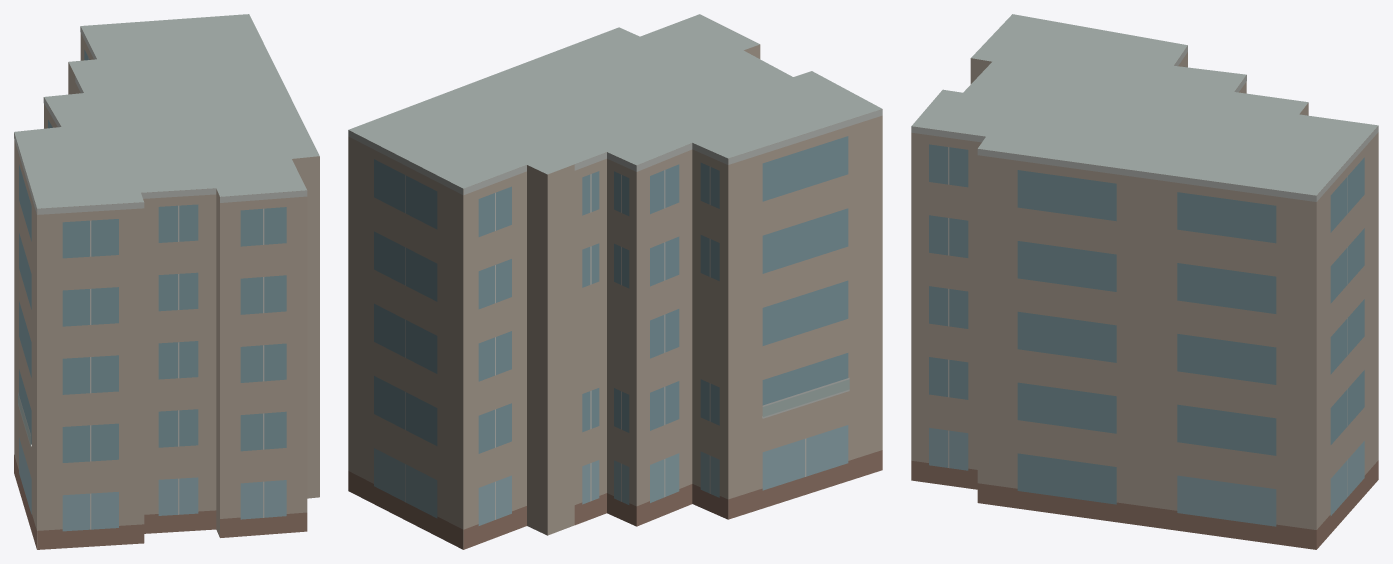
The model's file is survey-upis-32892725.glb.
3 renders of one model, left to right at view 1: azimuth 30°, elevation 25°; view 2: azimuth 150°, elevation 25°; view 3: azimuth 270°, elevation 25°, orthographic. The views are drawn at different scales.
Visible parts, largest first — view 1: survey-upis-32892725.tmp; view 2: survey-upis-32892725.tmp; view 3: survey-upis-32892725.tmp.
Part boxes in pixels (x1,y1,x2,y2): survey-upis-32892725.tmp: (14,14,319,549); survey-upis-32892725.tmp: (348,14,882,549); survey-upis-32892725.tmp: (911,14,1378,549).
Size of the model in its own units: 14.74 by 13.4 by 16.03.
